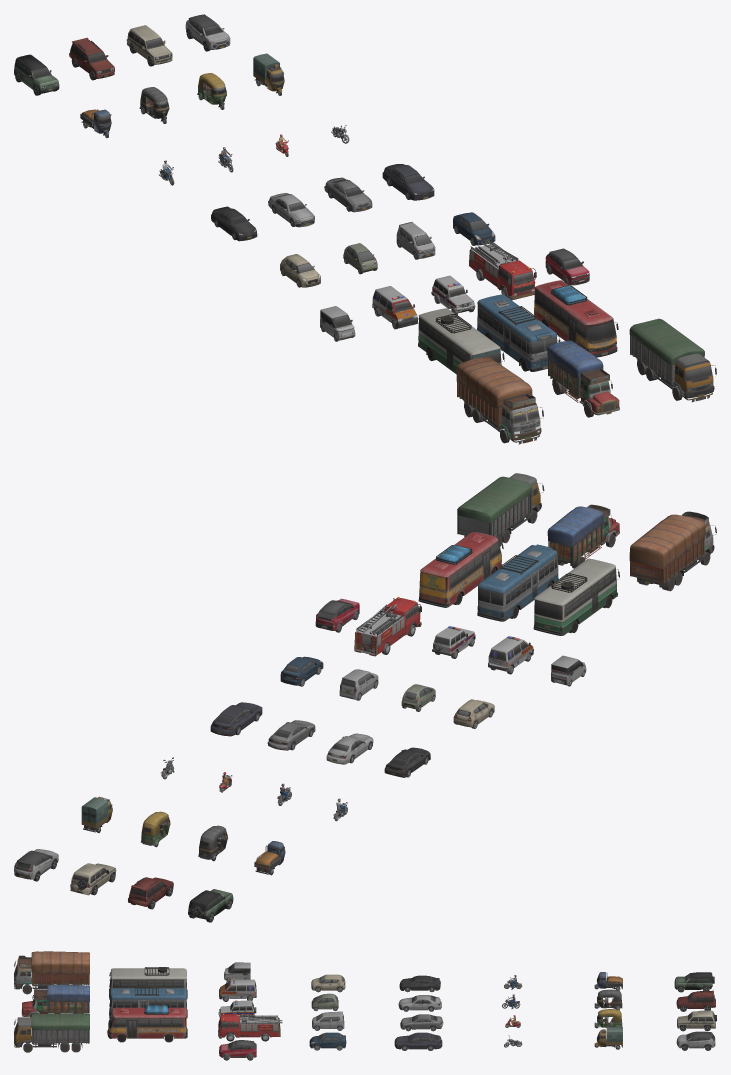
3 views of the same model, one above another, from view 1: azimuth 30°, elevation 25°; view 2: azimuth 150°, elevation 25°; view 3: azimuth 270°, elevation 25° (orthographic). The views are drawn at different scales.
Parts seen in each view (by area): view 1: Traffic_Truck_02_Body, Traffic_Truck_03_Body, Traffic_Bus_03_Body, Traffic_Bus_01_Body, Traffic_Truck_01_Body, Traffic_Bus_02_Body, traffic_emergency_03, traffic_emergency_02, Traffic_Luxury_04_Body, Traffic_SUV_01_Body, Traffic_SUV_03_Body, Traffic_SUV_02_Body (+13 smaller); view 2: Traffic_Truck_02_Body, Traffic_Bus_02_Body, Traffic_Bus_03_Body, Traffic_Bus_01_Body, Traffic_Truck_03_Body, Traffic_Truck_01_Body, traffic_emergency_03, Traffic_Luxury_04_Body, traffic_emergency_02, traffic_ev_02, Traffic_SUV_02_Body, Traffic_SUV_03_Body (+13 smaller); view 3: Traffic_Truck_02_Body, Traffic_Bus_03_Body, Traffic_Truck_03_Body, Traffic_Truck_01_Body, Traffic_Bus_02_Body, Traffic_Bus_01_Body, traffic_emergency_03, Traffic_Luxury_04_Body, traffic_emergency_02, Traffic_SUV_02_Body, Traffic_SUV_03_Body, Traffic_SUV_01_Body (+15 smaller).
Boxes of the visible parts, x1,y1,x2,y2 form: Traffic_Truck_02_Body: (456,357,543,444); Traffic_Truck_03_Body: (629,318,716,402); Traffic_Bus_03_Body: (534,280,618,357); Traffic_Bus_01_Body: (477,294,560,371); Traffic_Truck_01_Body: (547,340,619,415); Traffic_Bus_02_Body: (418,308,504,374); traffic_emergency_03: (469,240,536,300); traffic_emergency_02: (372,286,418,328); Traffic_Luxury_04_Body: (382,164,434,200); Traffic_SUV_01_Body: (69,37,114,78); Traffic_SUV_03_Body: (14,54,59,93); Traffic_SUV_02_Body: (126,25,172,64); Traffic_Truck_02_Body: (629,511,716,588); Traffic_Bus_02_Body: (533,558,619,635); Traffic_Bus_03_Body: (418,532,503,607); Traffic_Bus_01_Body: (477,544,560,621); Traffic_Truck_03_Body: (457,473,544,537); Traffic_Truck_01_Body: (547,504,619,566); traffic_emergency_03: (354,598,421,655); Traffic_Luxury_04_Body: (210,702,262,736); traffic_emergency_02: (488,637,533,671); traffic_ev_02: (315,598,359,630); Traffic_SUV_02_Body: (70,863,116,895); Traffic_SUV_03_Body: (188,889,233,919); Traffic_Truck_02_Body: (14,951,89,989); Traffic_Bus_03_Body: (107,1005,187,1038); Traffic_Truck_03_Body: (14,1014,89,1047); Traffic_Truck_01_Body: (21,984,89,1016); Traffic_Bus_02_Body: (109,967,187,999); Traffic_Bus_01_Body: (109,986,187,1018); traffic_emergency_03: (218,1013,282,1038); Traffic_Luxury_04_Body: (394,1032,442,1049); traffic_emergency_02: (219,979,256,999); Traffic_SUV_02_Body: (677,1010,716,1028); Traffic_SUV_03_Body: (674,972,714,989); Traffic_SUV_01_Body: (676,990,715,1008).
Size of the model in its own units: 21.99 by 4.13 by 76.35.
98 materials, 97 textured.
